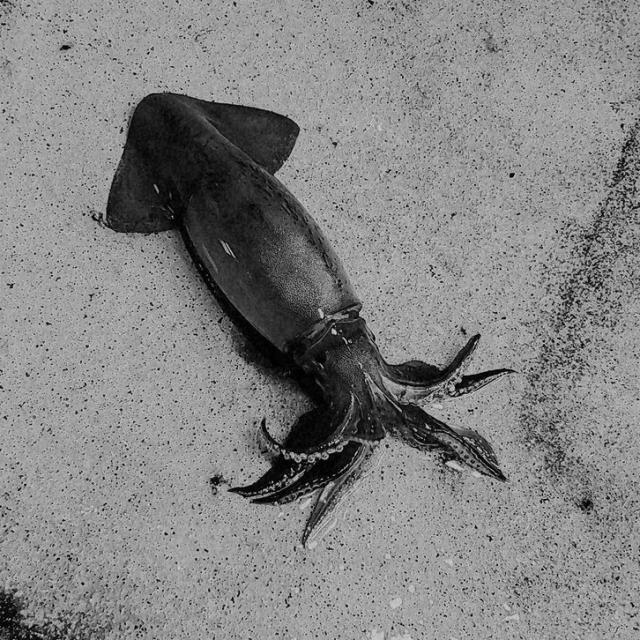SQUID: (94, 77, 461, 507)
